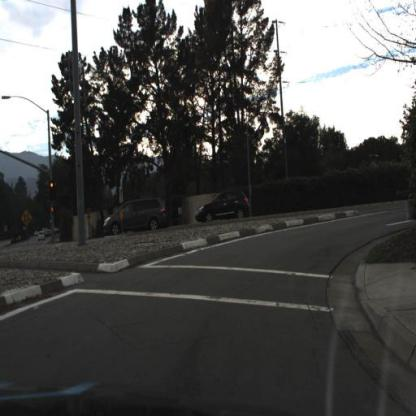car: (101, 195, 167, 237), (196, 188, 250, 227)
trafficLight-Red: (50, 183, 55, 197)
